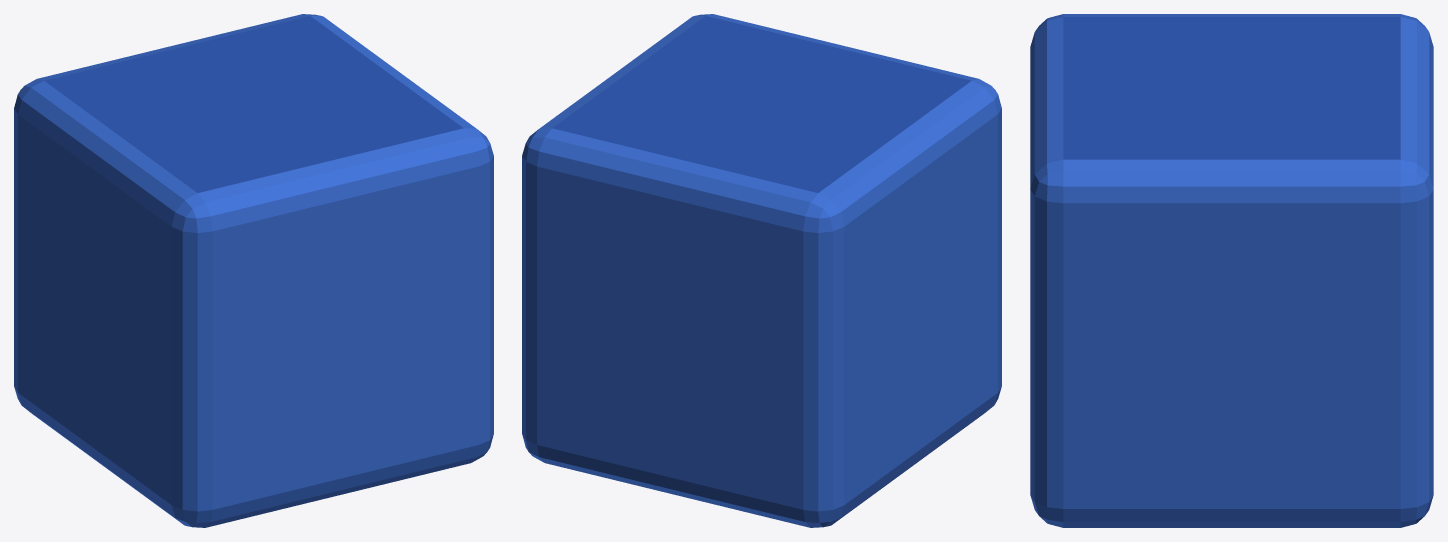
File: chalk.glb
The picture shows the model from 3 angles, left to right: view 1: azimuth 30°, elevation 25°; view 2: azimuth 150°, elevation 25°; view 3: azimuth 270°, elevation 25°; orthographic projection. The views are drawn at different scales.
Parts seen in each view (by area): view 1: chalk; view 2: chalk; view 3: chalk.
Boxes of the visible parts, x1,y1,x2,y2 form: chalk: (14,14,493,527); chalk: (522,14,1001,527); chalk: (1030,14,1433,527).
Bounding box in the file's own units: 0.022 × 0.022 × 0.022.
